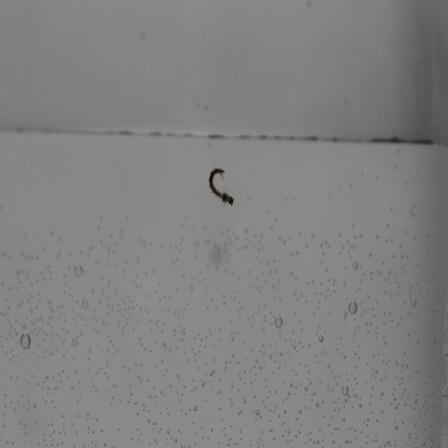Jentik-Nyamuk: (202, 160, 238, 208)
